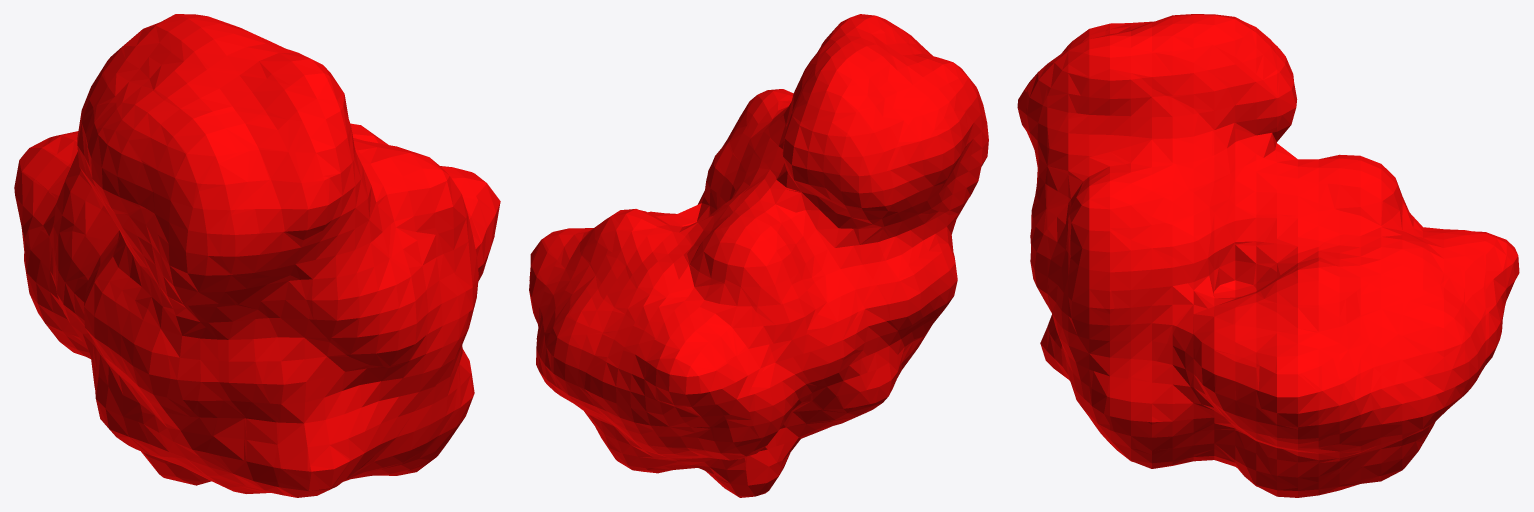
Rendered from gshB_coarse.dae.
The picture shows the model from 3 angles, left to right: view 1: azimuth 30°, elevation 25°; view 2: azimuth 150°, elevation 25°; view 3: azimuth 270°, elevation 25°; orthographic projection. The views are drawn at different scales.
Parts seen in each view (by area): view 1: gshB; view 2: gshB; view 3: gshB.
Boxes of the visible parts, <box> form: gshB: <box>14,14,500,497</box>; gshB: <box>529,14,988,497</box>; gshB: <box>1017,14,1519,497</box>.
Size of the model in its own units: 54.02 by 58.54 by 62.1.
